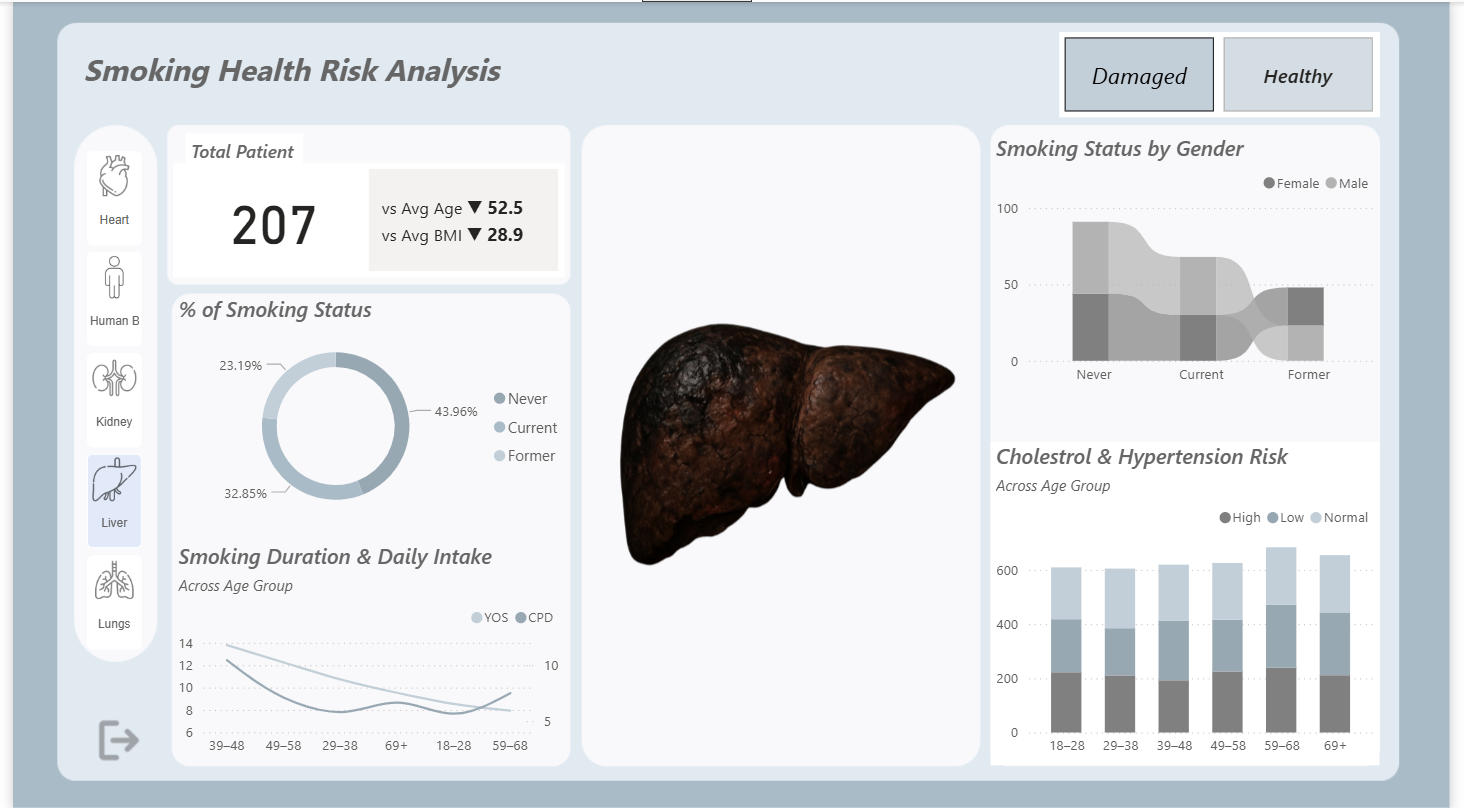

The page's visual inventory and layout, read from the dashboard file:
{"tool":"powerbi","page":{"name":"Page 1","canvas":[1280,720],"ordinal":0},"visuals":[{"type":"cardVisual","fields":{"Data":["CountNonNull(health_dataset.Patient_ID)"]},"box":[142.4,143.6,348.7,101.3],"z":0},{"type":"textbox","box":[153.2,117,105,37.4],"z":1000},{"type":"advancedSlicerVisual","fields":{"Values":["condition.Organ_Condition"]},"box":[931.4,26.5,285.9,76],"z":2000},{"type":"ChicletSlicer1448559807354","fields":{"Category":["Organs.Organ"],"Image":["Organs.Icon_URL"]},"box":[57.9,124.3,72.4,469.3],"z":3000},{"type":"simpleImageEBC4593F96F1425FB3D84C5BF02B5075","fields":{"imageURL":["Image Dataset.Image URL"]},"box":[520,102.5,330.6,577.9],"z":4000},{"type":"donutChart","title":"% of Smoking Status","fields":{"Category":["health_dataset.Smoking_Status"],"Y":["CountNonNull(health_dataset.Smoking_Status)"]},"box":[142.4,260.6,357.1,209.9],"z":5000},{"type":"lineChart","title":"Smoking Duration & Daily Intake","fields":{"Category":["health_dataset.Age Group"],"Y":["Avg(health_dataset.Years_of_Smoking)"],"Y2":["Avg(health_dataset.Cigarettes_Per_Day)"]},"box":[142.4,481.4,348.7,199.1],"z":6000},{"type":"ribbonChart","title":"Smoking Status by Gender","fields":{"Category":["health_dataset.Smoking_Status"],"Y":["CountNonNull(health_dataset.Patient_ID)"],"Series":["health_dataset.Gender"]},"box":[871.1,117,346.2,232.8],"z":7000},{"type":"columnChart","title":"Cholestrol & Hypertension Risk","fields":{"Category":["health_dataset.Age Group"],"Y":["Avg(health_dataset.Cholesterol_Level)"],"Series":["health_dataset.BP_Risk"]},"box":[871.1,392.1,346.2,288.3],"z":8000},{"type":"textbox","box":[57.9,36.2,382.4,53.1],"z":9000}]}

Visuals, with their boxes in screenshot pixels (x1, y1, x2, y2), scaled from the page's 1280x720 canvas onto the 1464x808 screenshot:
cardVisual - CountNonNull(health_dataset.Patient_ID): 163 161 562 275
textbox: 175 131 295 173
advancedSlicerVisual - condition.Organ_Condition: 1065 30 1392 115
ChicletSlicer1448559807354 - Organs.Organ x Organs.Icon_URL: 66 139 149 666
simpleImageEBC4593F96F1425FB3D84C5BF02B5075 - Image Dataset.Image URL: 595 115 973 764
"% of Smoking Status" donutChart: 163 292 571 528
"Smoking Duration & Daily Intake" lineChart: 163 540 562 764
"Smoking Status by Gender" ribbonChart: 996 131 1392 393
"Cholestrol & Hypertension Risk" columnChart: 996 440 1392 764
textbox: 66 41 504 100
